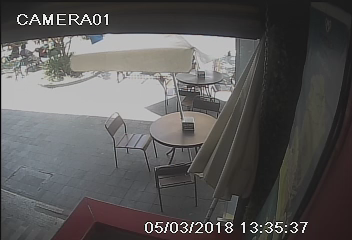libre: (114, 108, 228, 201), (157, 63, 238, 115)
